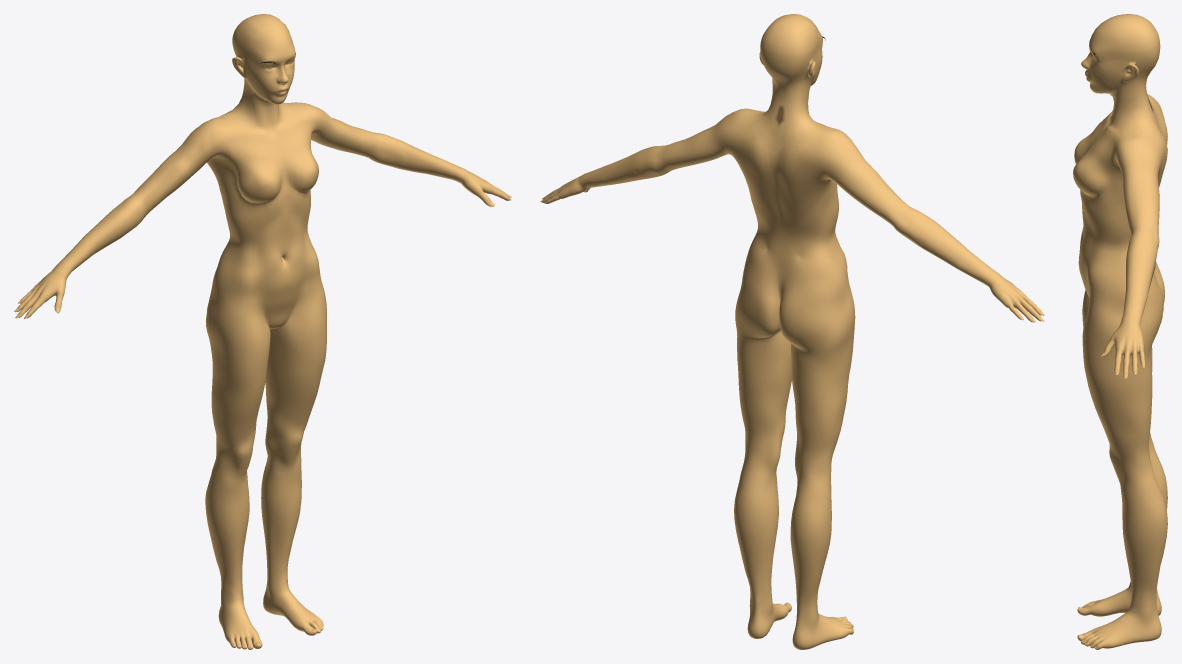
File: female_XS_2.glb
The picture shows the model from 3 angles, left to right: view 1: azimuth 30°, elevation 25°; view 2: azimuth 150°, elevation 25°; view 3: azimuth 270°, elevation 25°; orthographic projection.
Visible parts, largest first — view 1: Body; view 2: Body; view 3: Body.
Boxes of the visible parts, x1,y1,x2,y2 form: Body: [16, 14, 511, 649]; Body: [542, 14, 1041, 649]; Body: [1073, 14, 1167, 649].
Bounding box in the file's own units: 1.58 × 1.85 × 0.2597.
